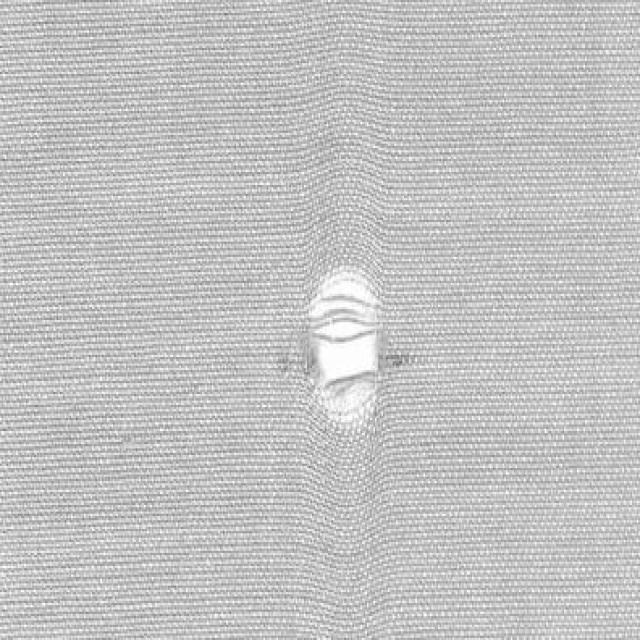Hole: (309, 272, 380, 423)
